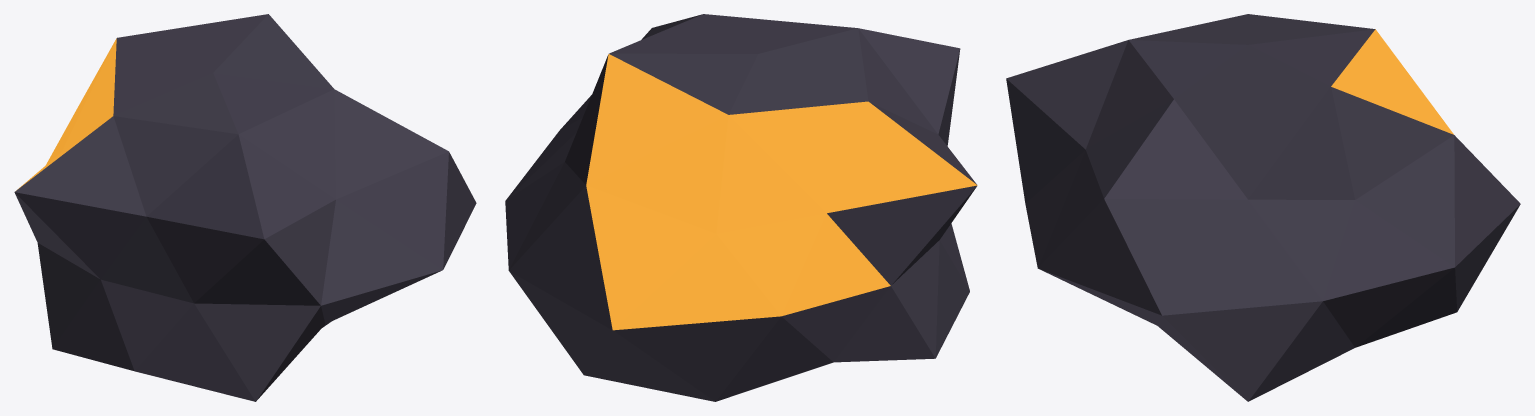
File: Ore_D.fbx
The picture shows the model from 3 angles, left to right: view 1: azimuth 30°, elevation 25°; view 2: azimuth 150°, elevation 25°; view 3: azimuth 270°, elevation 25°; orthographic projection. The views are drawn at different scales.
Visible parts, largest first — view 1: Ore; view 2: Ore; view 3: Ore.
Part boxes in pixels (box(x1,y1,x2,y2)): Ore: box(14, 14, 476, 401); Ore: box(505, 14, 977, 401); Ore: box(1006, 14, 1520, 401).
Bounding box in the file's own units: 0.3506 × 0.3598 × 0.1996.
